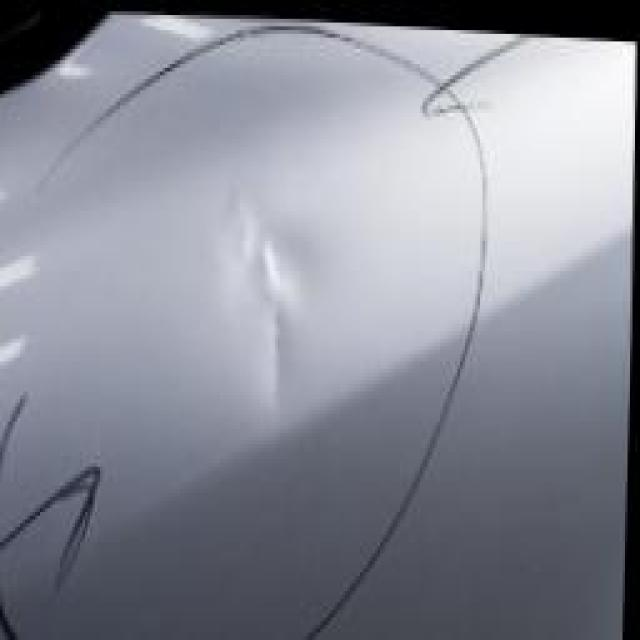Door: (32, 87, 509, 616)
